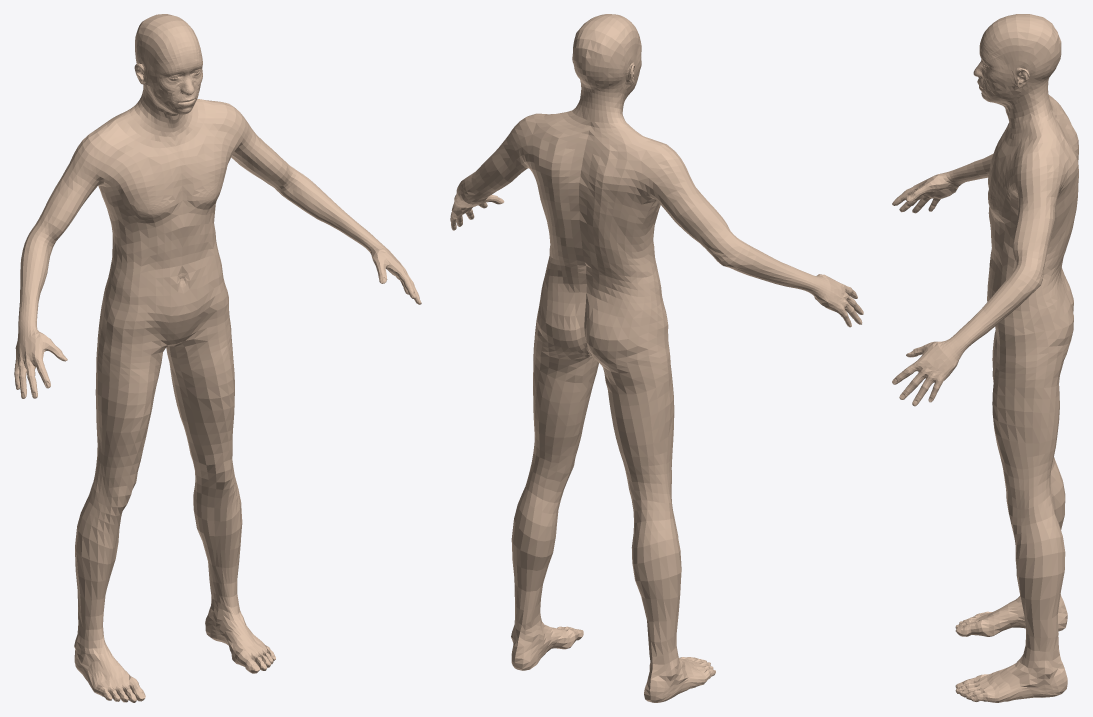
File: male-mature-lean-high.glb
3 views of the same model, side by side, from view 1: azimuth 30°, elevation 25°; view 2: azimuth 150°, elevation 25°; view 3: azimuth 270°, elevation 25° (orthographic).
Visible parts, largest first — view 1: world; view 2: world; view 3: world.
Part boxes in pixels (x1=…): world: x1=14, y1=14, x2=421, y2=702; world: x1=450, y1=14, x2=863, y2=702; world: x1=892, y1=14, x2=1078, y2=702.
Bounding box in the file's own units: 1.25 × 1.94 × 0.5079.
